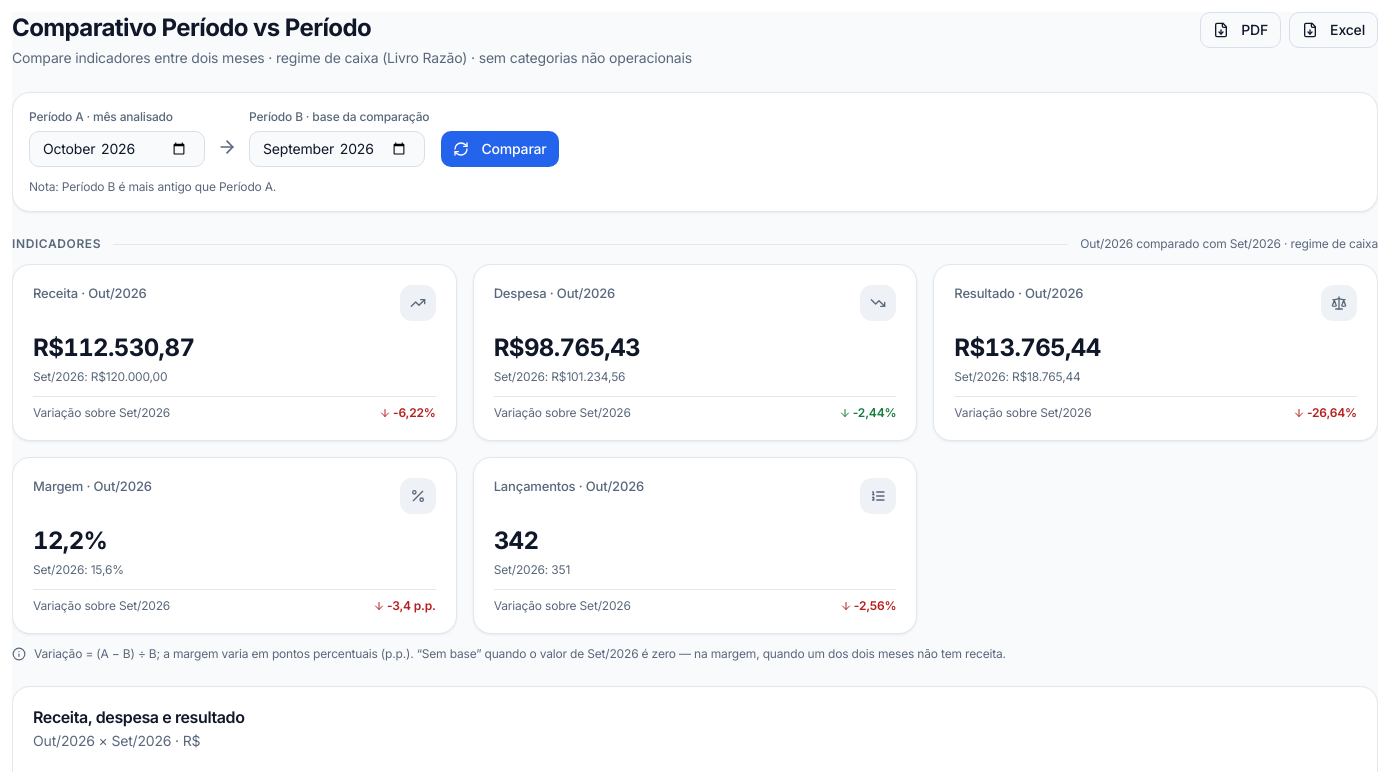
Test: Comparativo (V2) › mudar os meses sem comparar avisa e bloqueia a exportação; nada é lido até "Comparar"
expect the element "Indicadores" is shown: met, box [12, 236, 1378, 662]
Replace the text in the field labelled "Período A · mês analisado" with "2026-08". click: (117, 149)
box: [29, 131, 205, 167]
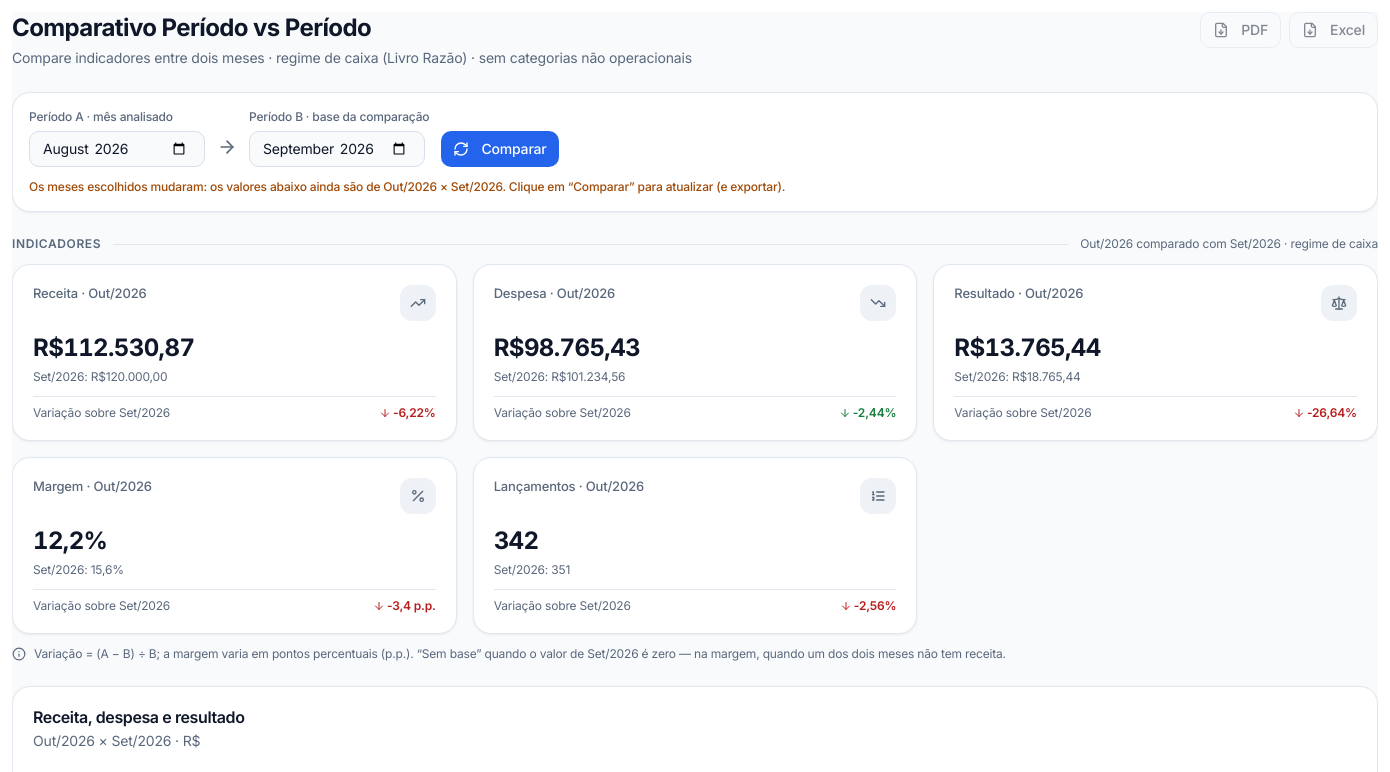
expect the text "Os meses escolhidos mudaram: os valores abaixo ainda são de Out/2026 × Set/2026" is shown: met, box [29, 179, 785, 194]
expect the button "PDF" is disabled: met, box [1200, 12, 1281, 48]
expect the button "Excel" is disabled: met, box [1289, 12, 1378, 48]
